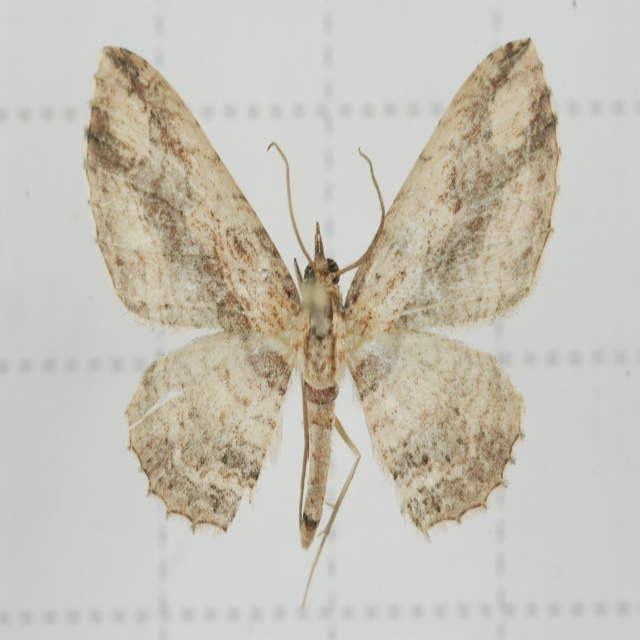Butterfly: (94, 58, 546, 586)
